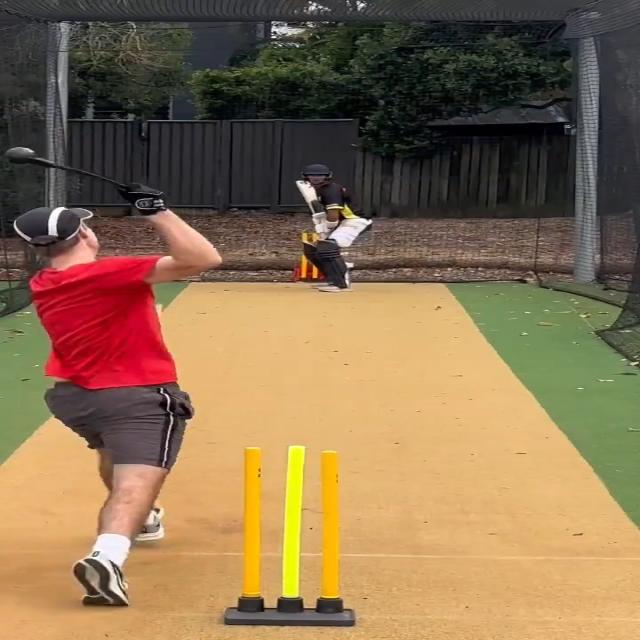stump: (226, 446, 356, 626)
